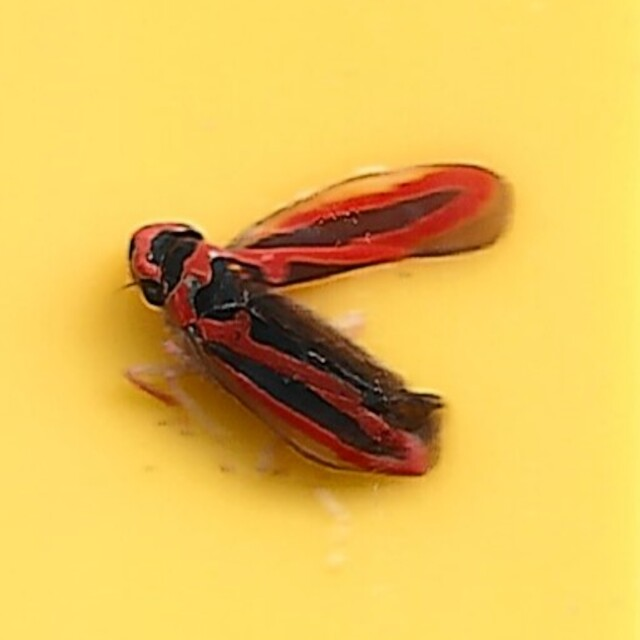Hemiptera: (125, 158, 515, 482)
